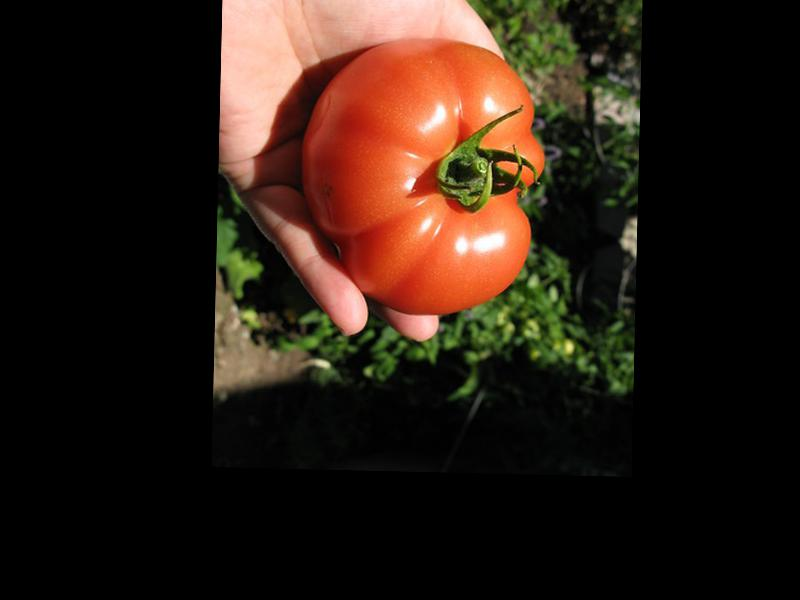Tomato: (302, 38, 547, 318)
